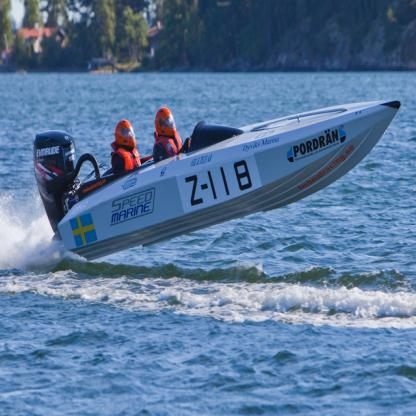Helmet: (151, 109, 181, 147), (113, 120, 137, 149)
